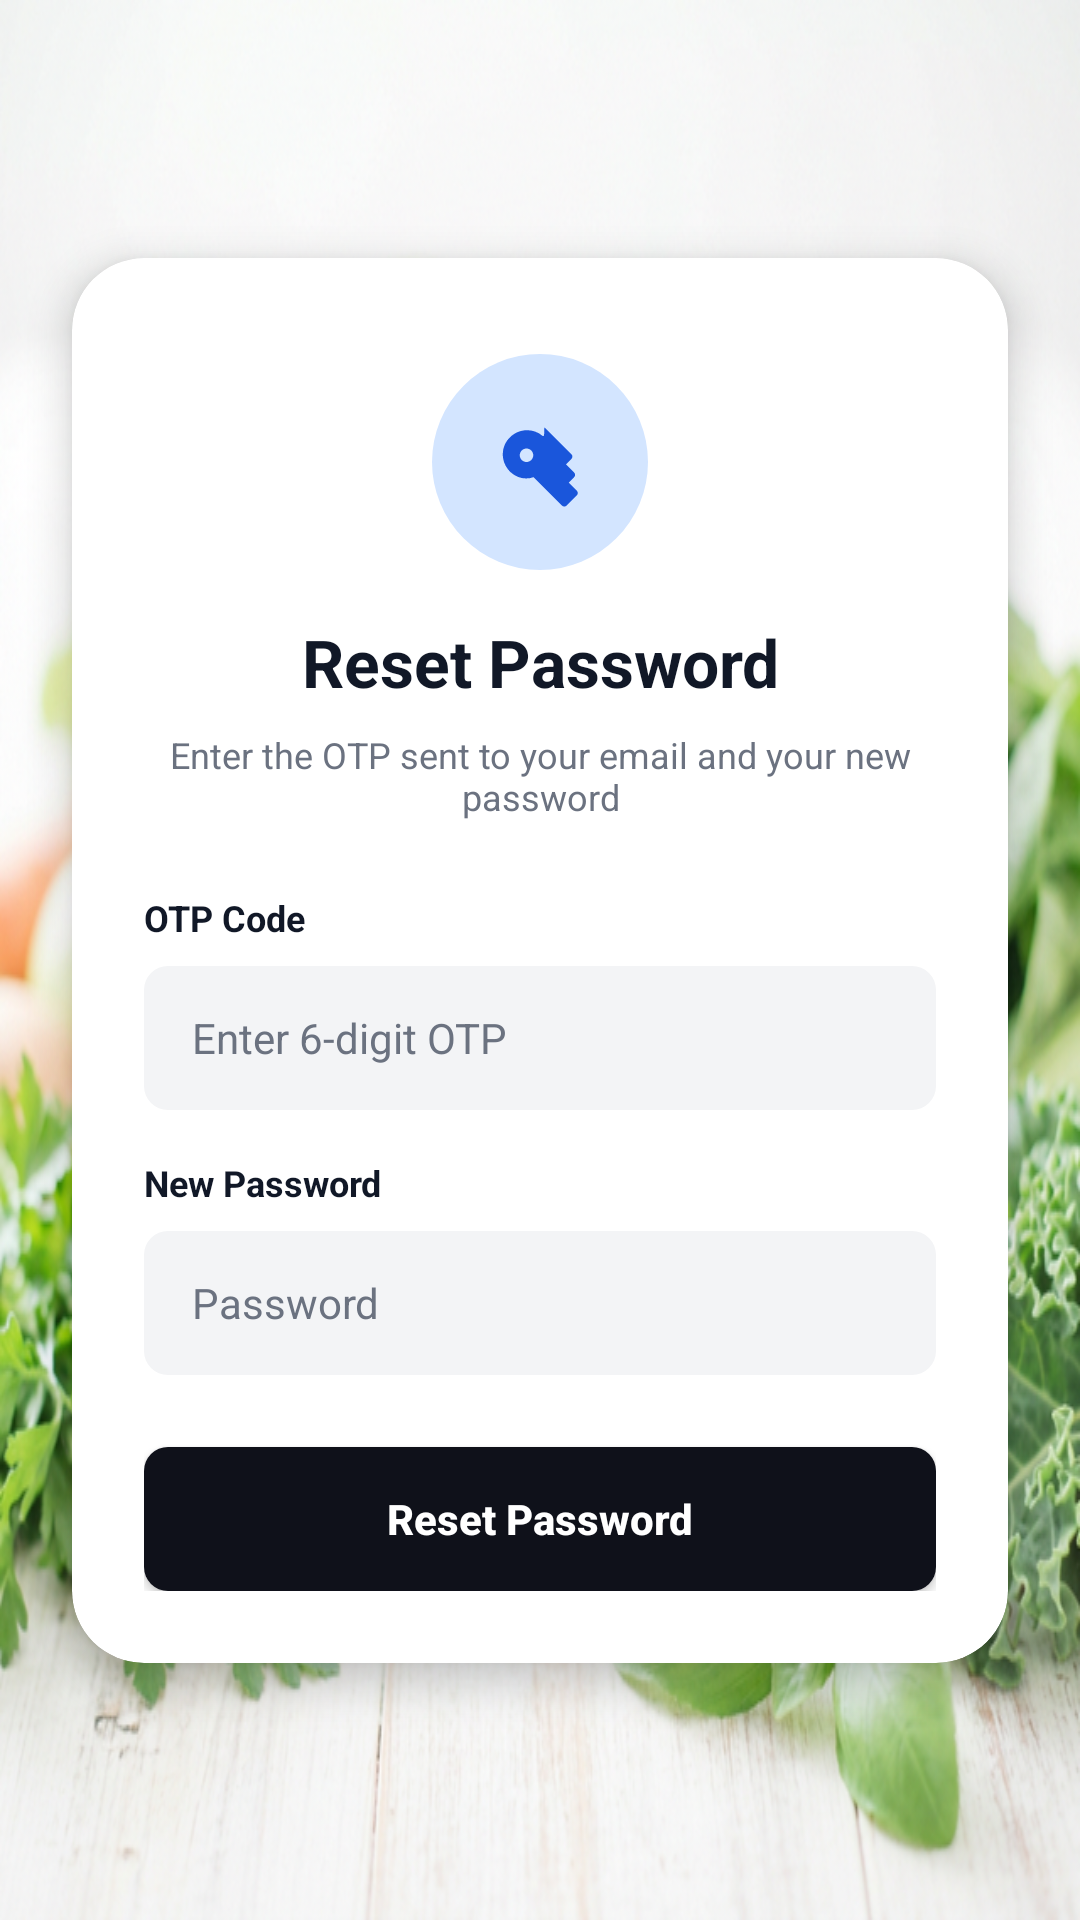

Icons on this 1080px x 1920px Android screen, each with the point to tap as (x=x, y=y):
key: (x=540, y=462)
